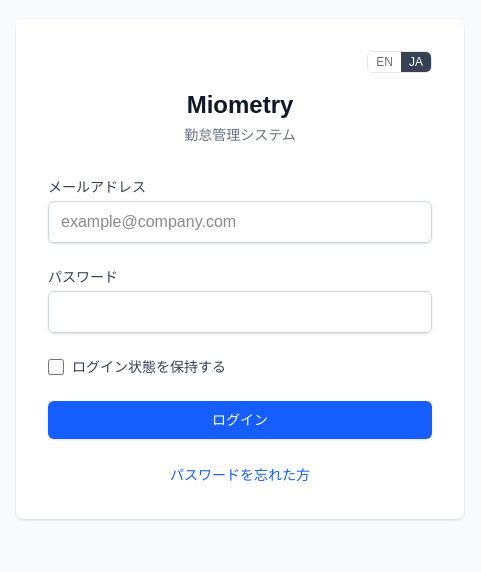
Test: Login page › Login submission › shows server error on 503
The image size is (481, 572).
Type "user@example.com" into the field labelled "メールアドレス" at (240, 222), box [48, 201, 432, 243]
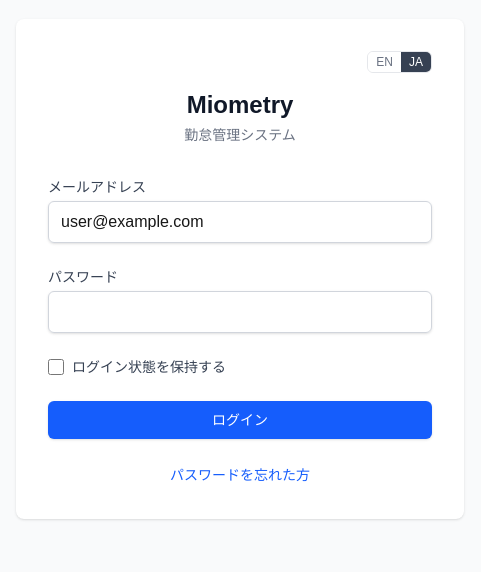
Type "password123" into the password field labelled "パスワード" at (240, 312), box [48, 291, 432, 333]
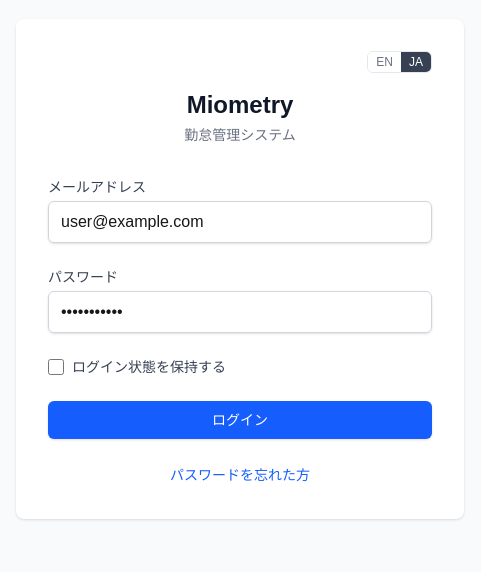
Click the button "ログイン" at (240, 420), box [48, 401, 432, 439]
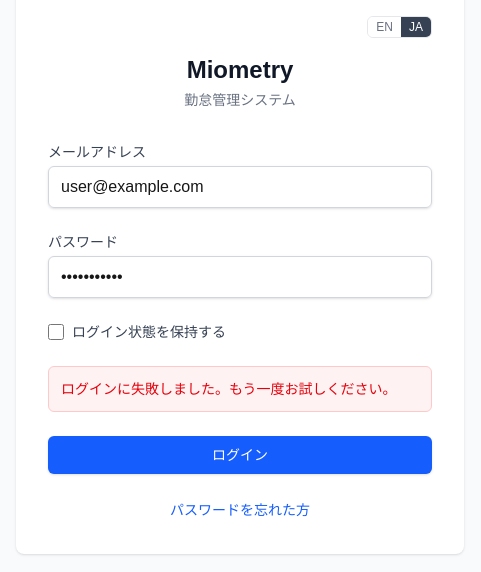
Check: the message reads "ログインに失敗しました。もう一度お試しください。", box [61, 381, 397, 397]
